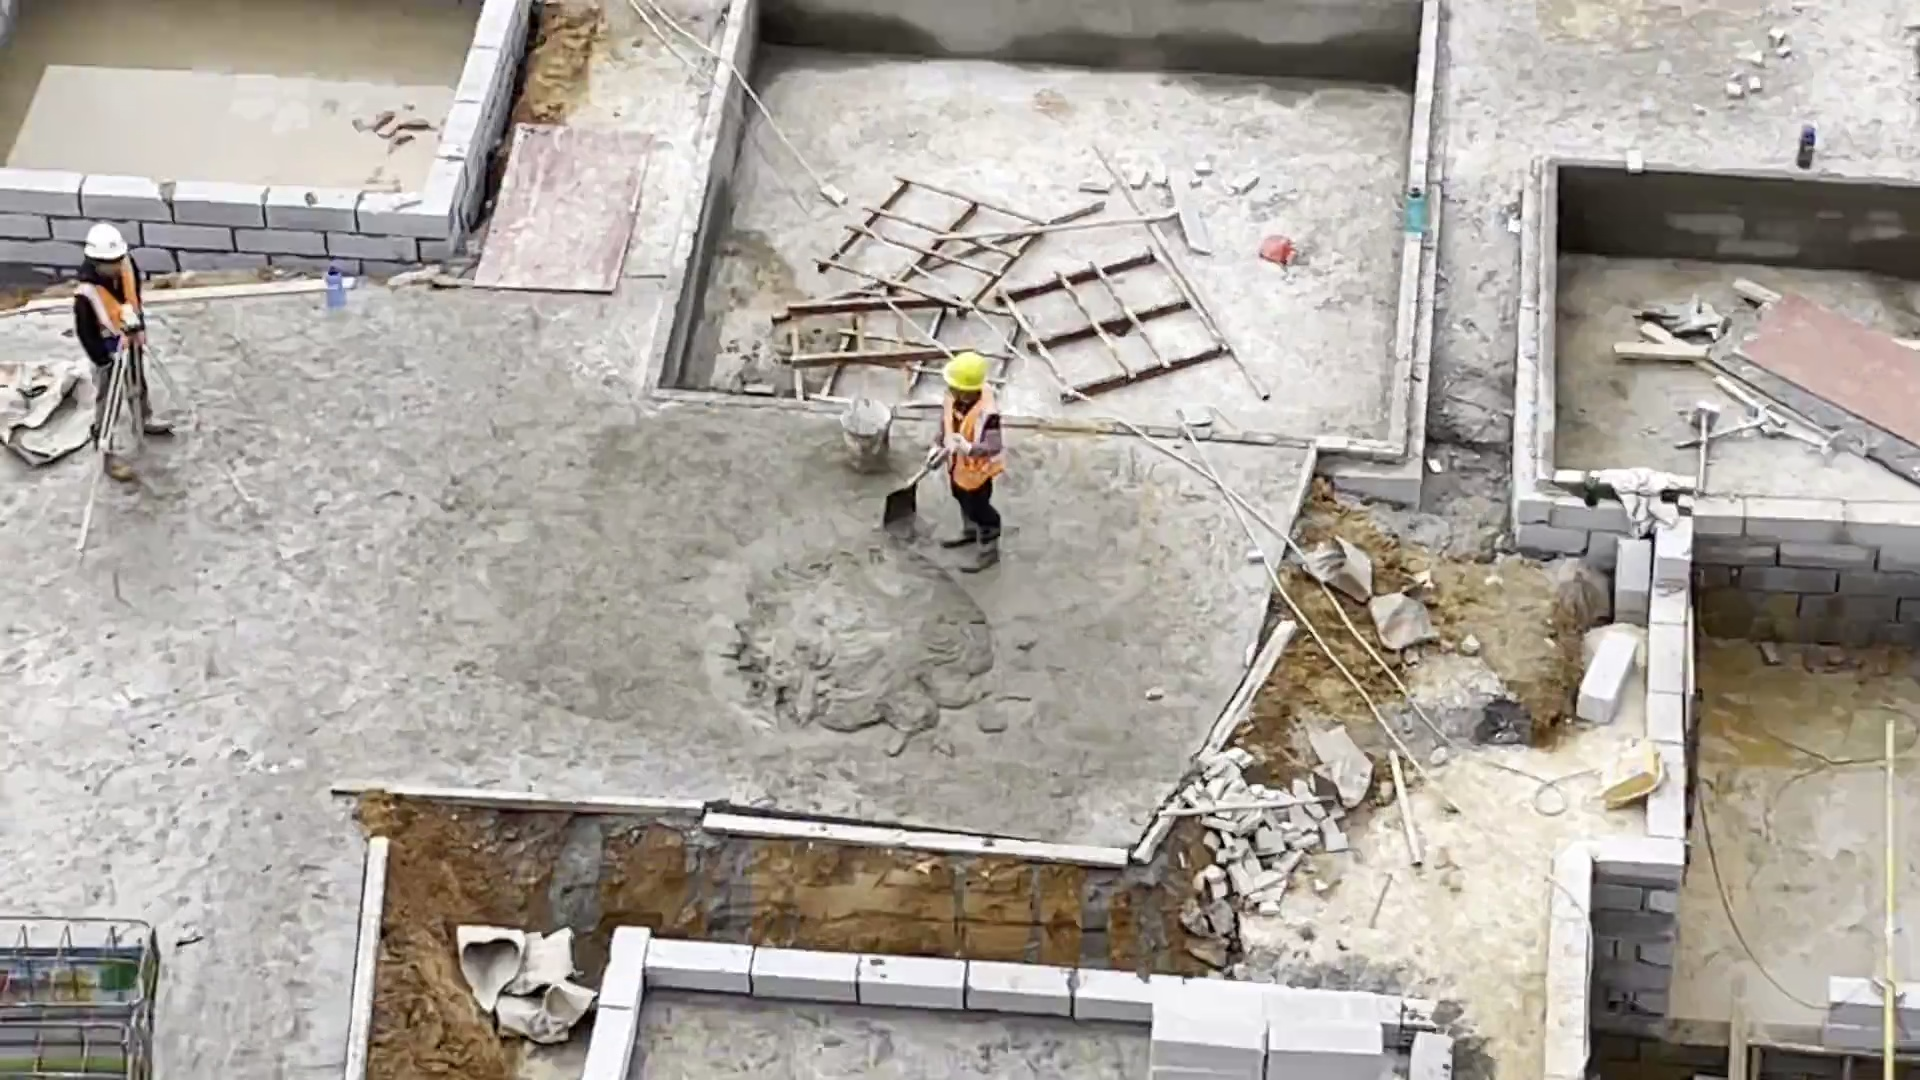brick: (1138, 976, 1383, 1080)
helmet: (83, 219, 128, 263), (945, 354, 990, 393)
person: (71, 216, 180, 479), (918, 354, 1017, 577)
vest: (75, 258, 148, 352), (941, 390, 1006, 490)
